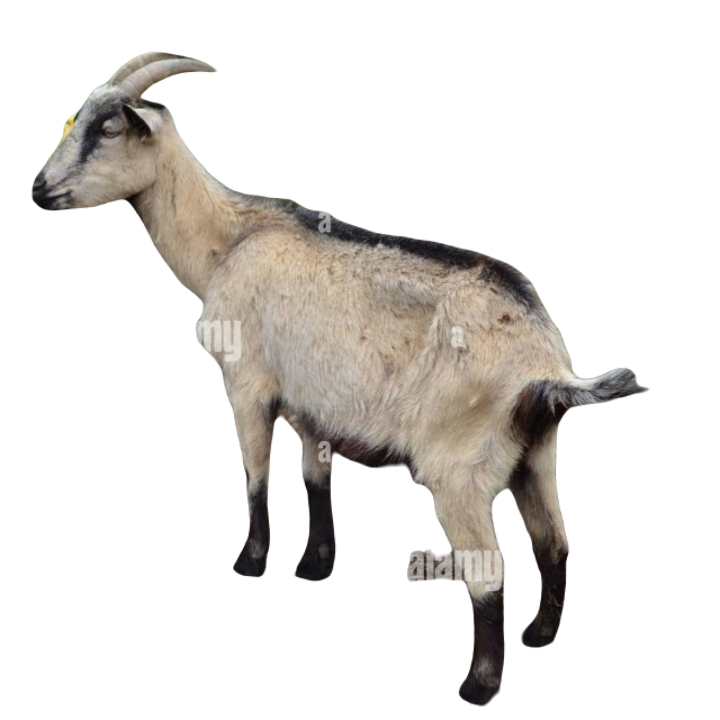Goat: (30, 50, 644, 704)
